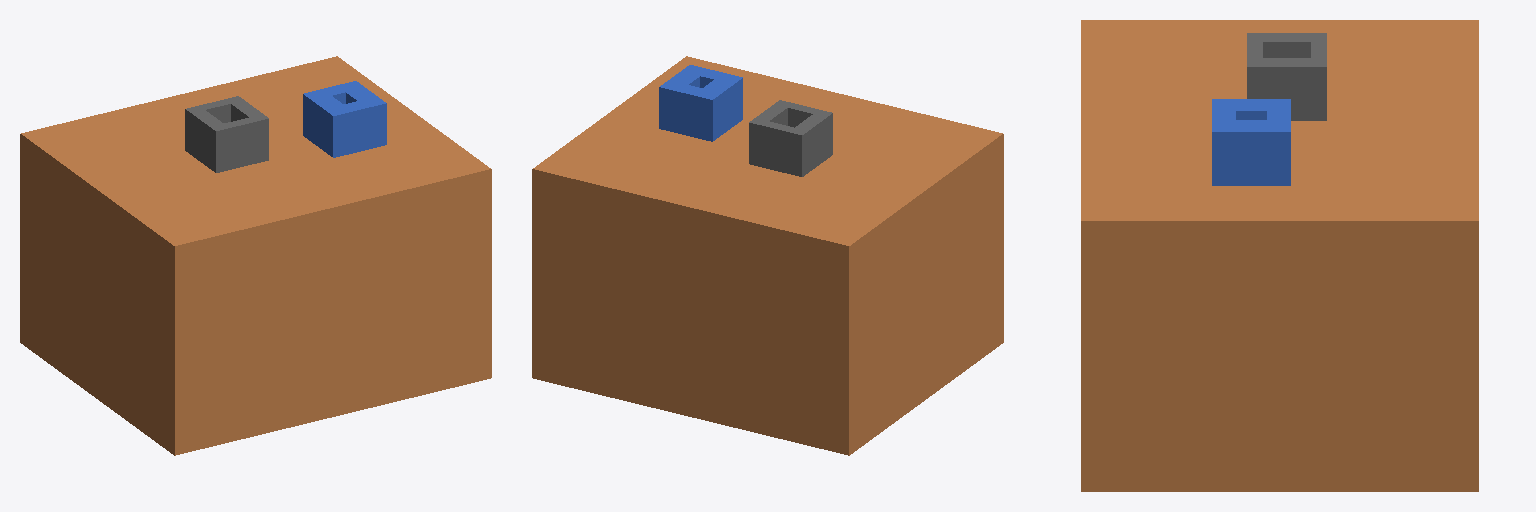
robot.urdf — peg_in_hole_fixtured_scene_0028_peg0019_tol04:
<?xml version="1.0"?>
<robot name="peg_in_hole_fixtured_scene_0028_peg0019_tol04">
  <material name="wood"><color rgba="0.82 0.56 0.35 1.0"/></material>
  <material name="start_fix"><color rgba="0.30 0.50 0.85 1.0"/></material>
  <material name="goal_fix"><color rgba="0.4706 0.4706 0.4706 1.0"/></material>
  <link name="box">
    <visual>
      <origin xyz="0.000000 0.000000 0.000000" rpy="0 0 0"/>
      <geometry><box size="0.475000 0.400000 0.300000"/></geometry>
      <material name="wood"/>
    </visual>
    <collision>
      <origin xyz="0.000000 0.000000 0.000000" rpy="0 0 0"/>
      <geometry><box size="0.475000 0.400000 0.300000"/></geometry>
    </collision>
    <visual>
      <origin xyz="0.116482 -0.028690 0.155000" rpy="0 0 0"/>
      <geometry><box size="0.080000 0.080000 0.010000"/></geometry>
      <material name="start_fix"/>
    </visual>
    <collision>
      <origin xyz="0.116482 -0.028690 0.155000" rpy="0 0 0"/>
      <geometry><box size="0.080000 0.080000 0.010000"/></geometry>
    </collision>
    <visual>
      <origin xyz="0.141732 -0.028690 0.185000" rpy="0 0 0"/>
      <geometry><box size="0.029500 0.080000 0.050000"/></geometry>
      <material name="start_fix"/>
    </visual>
    <collision>
      <origin xyz="0.141732 -0.028690 0.185000" rpy="0 0 0"/>
      <geometry><box size="0.029500 0.080000 0.050000"/></geometry>
    </collision>
    <visual>
      <origin xyz="0.091232 -0.028690 0.185000" rpy="0 0 0"/>
      <geometry><box size="0.029500 0.080000 0.050000"/></geometry>
      <material name="start_fix"/>
    </visual>
    <collision>
      <origin xyz="0.091232 -0.028690 0.185000" rpy="0 0 0"/>
      <geometry><box size="0.029500 0.080000 0.050000"/></geometry>
    </collision>
    <visual>
      <origin xyz="0.116482 -0.000940 0.185000" rpy="0 0 0"/>
      <geometry><box size="0.021000 0.024500 0.050000"/></geometry>
      <material name="start_fix"/>
    </visual>
    <collision>
      <origin xyz="0.116482 -0.000940 0.185000" rpy="0 0 0"/>
      <geometry><box size="0.021000 0.024500 0.050000"/></geometry>
    </collision>
    <visual>
      <origin xyz="0.116482 -0.056440 0.185000" rpy="0 0 0"/>
      <geometry><box size="0.021000 0.024500 0.050000"/></geometry>
      <material name="start_fix"/>
    </visual>
    <collision>
      <origin xyz="0.116482 -0.056440 0.185000" rpy="0 0 0"/>
      <geometry><box size="0.021000 0.024500 0.050000"/></geometry>
    </collision>
    <visual>
      <origin xyz="-0.038840 0.007097 0.155000" rpy="0 0 0"/>
      <geometry><box size="0.080000 0.080000 0.010000"/></geometry>
      <material name="goal_fix"/>
    </visual>
    <collision>
      <origin xyz="-0.038840 0.007097 0.155000" rpy="0 0 0"/>
      <geometry><box size="0.080000 0.080000 0.010000"/></geometry>
    </collision>
    <visual>
      <origin xyz="-0.009262 0.007097 0.185000" rpy="0 0 0"/>
      <geometry><box size="0.020845 0.080000 0.050000"/></geometry>
      <material name="goal_fix"/>
    </visual>
    <collision>
      <origin xyz="-0.009262 0.007097 0.185000" rpy="0 0 0"/>
      <geometry><box size="0.020845 0.080000 0.050000"/></geometry>
    </collision>
    <visual>
      <origin xyz="-0.068418 0.007097 0.185000" rpy="0 0 0"/>
      <geometry><box size="0.020845 0.080000 0.050000"/></geometry>
      <material name="goal_fix"/>
    </visual>
    <collision>
      <origin xyz="-0.068418 0.007097 0.185000" rpy="0 0 0"/>
      <geometry><box size="0.020845 0.080000 0.050000"/></geometry>
    </collision>
    <visual>
      <origin xyz="-0.038840 0.039174 0.185000" rpy="0 0 0"/>
      <geometry><box size="0.038311 0.015845 0.050000"/></geometry>
      <material name="goal_fix"/>
    </visual>
    <collision>
      <origin xyz="-0.038840 0.039174 0.185000" rpy="0 0 0"/>
      <geometry><box size="0.038311 0.015845 0.050000"/></geometry>
    </collision>
    <visual>
      <origin xyz="-0.038840 -0.024981 0.185000" rpy="0 0 0"/>
      <geometry><box size="0.038311 0.015845 0.050000"/></geometry>
      <material name="goal_fix"/>
    </visual>
    <collision>
      <origin xyz="-0.038840 -0.024981 0.185000" rpy="0 0 0"/>
      <geometry><box size="0.038311 0.015845 0.050000"/></geometry>
    </collision>
    <inertial>
      <mass value="500"/>
      <friction value="1.0"/>
      <inertia ixx="1000.0" ixy="0.0" ixz="0.0" iyy="1000.0" iyz="0.0" izz="1000.0"/>
    </inertial>
  </link>
</robot>

--- Facts derived from the render (not from the file) ---
Views: 3 orthographic renders of the robot side by side, from view 1: azimuth 30°, elevation 25°; view 2: azimuth 150°, elevation 25°; view 3: azimuth 270°, elevation 25°.
Model peg_in_hole_fixtured_scene_0028_peg0019_tol04 with 1 links and 0 joints (none), rooted at box, posed all joints at 0.
Links seen in each view (by area): view 1: box; view 2: box; view 3: box.
Boxes of the visible links, x1,y1,x2,y2 form: box: [20, 56, 491, 455]; box: [532, 56, 1003, 455]; box: [1081, 20, 1478, 491].
Size in the robot's own frame: 0.475 by 0.4 by 0.36 metres.
Geometry: primitives only (box / cylinder / sphere), no mesh files.
